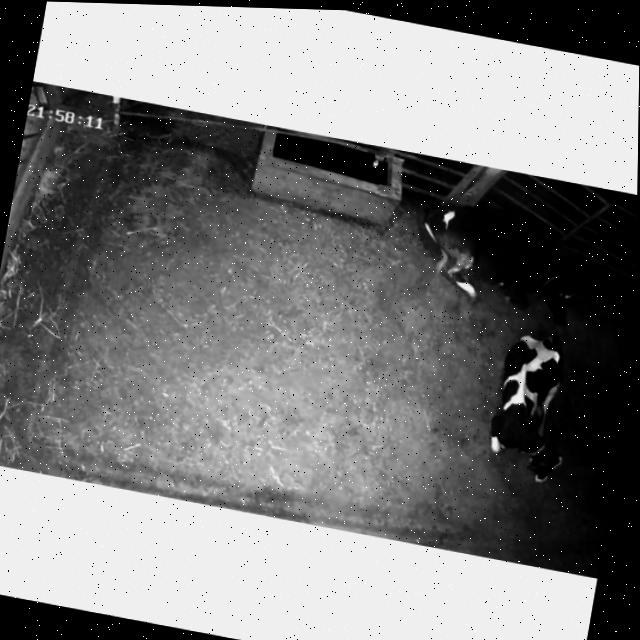lay: (399, 188, 596, 338), (469, 321, 592, 488)
